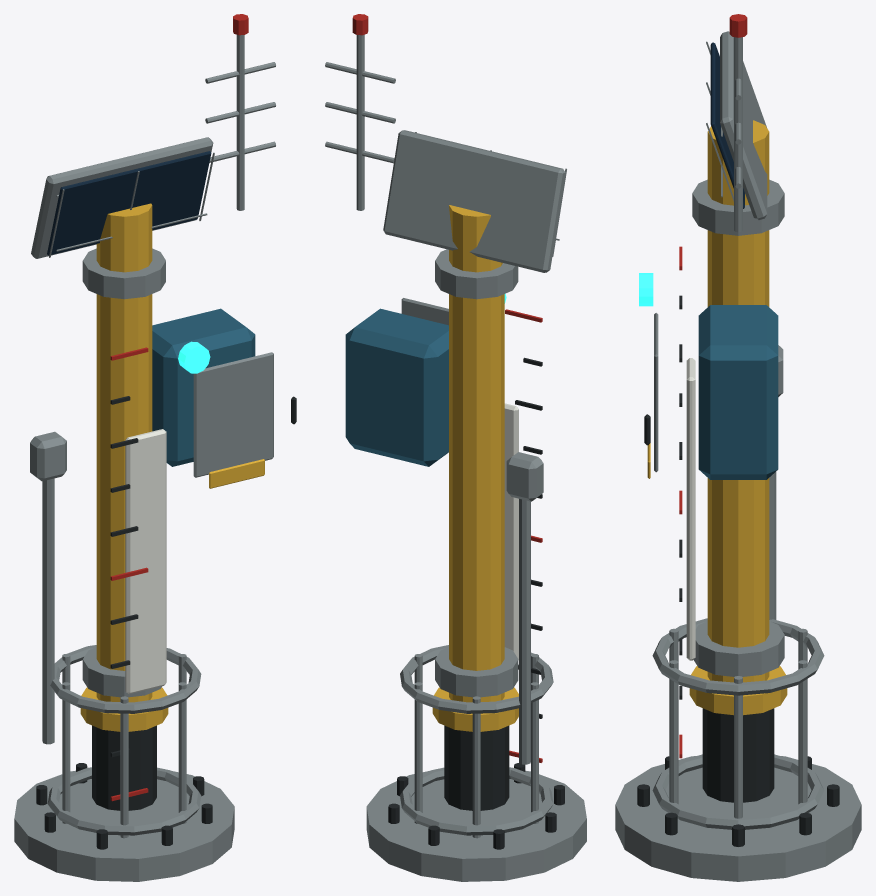
Rendered from port_mercy_tide_gauge.glb.
3 renders of one model, left to right at view 1: azimuth 30°, elevation 25°; view 2: azimuth 150°, elevation 25°; view 3: azimuth 270°, elevation 25°, orthographic. The views are drawn at different scales.
Visible parts, largest first — view 1: Port_Mercy_Tide_Gauge_28, Port_Mercy_Tide_Gauge_29, Port_Mercy_Tide_Gauge_52, Port_Mercy_Tide_Gauge_14, Port_Mercy_Tide_Gauge_32, Port_Mercy_Tide_Gauge_51, Port_Mercy_Tide_Gauge_30, Port_Mercy_Tide_Gauge_33, Port_Mercy_Tide_Gauge_16, Port_Mercy_Tide_Gauge_24, Port_Mercy_Tide_Gauge_23, Port_Mercy_Tide_Gauge_53 (+9 smaller); view 2: Port_Mercy_Tide_Gauge_28, Port_Mercy_Tide_Gauge_33, Port_Mercy_Tide_Gauge_51, Port_Mercy_Tide_Gauge_29, Port_Mercy_Tide_Gauge_30, Port_Mercy_Tide_Gauge_52, Port_Mercy_Tide_Gauge_16, Port_Mercy_Tide_Gauge_24, Port_Mercy_Tide_Gauge_27, Port_Mercy_Tide_Gauge_23, Port_Mercy_Tide_Gauge_53, Port_Mercy_Tide_Gauge_26 (+6 smaller); view 3: Port_Mercy_Tide_Gauge_29, Port_Mercy_Tide_Gauge_28, Port_Mercy_Tide_Gauge_51, Port_Mercy_Tide_Gauge_30, Port_Mercy_Tide_Gauge_33, Port_Mercy_Tide_Gauge_24, Port_Mercy_Tide_Gauge_23, Port_Mercy_Tide_Gauge_27, Port_Mercy_Tide_Gauge_52, Port_Mercy_Tide_Gauge_53, Port_Mercy_Tide_Gauge_31, Port_Mercy_Tide_Gauge_09 (+7 smaller).
Boxes of the visible parts, <box> form: Port_Mercy_Tide_Gauge_28: <box>96,203,152,702</box>; Port_Mercy_Tide_Gauge_29: <box>14,770,234,881</box>; Port_Mercy_Tide_Gauge_52: <box>125,429,166,694</box>; Port_Mercy_Tide_Gauge_14: <box>193,352,273,477</box>; Port_Mercy_Tide_Gauge_32: <box>47,151,211,255</box>; Port_Mercy_Tide_Gauge_51: <box>152,308,255,466</box>; Port_Mercy_Tide_Gauge_30: <box>92,725,156,810</box>; Port_Mercy_Tide_Gauge_33: <box>31,137,213,258</box>; Port_Mercy_Tide_Gauge_16: <box>42,478,54,744</box>; Port_Mercy_Tide_Gauge_24: <box>47,767,201,835</box>; Port_Mercy_Tide_Gauge_23: <box>50,645,201,713</box>; Port_Mercy_Tide_Gauge_53: <box>82,248,165,299</box>; Port_Mercy_Tide_Gauge_28: <box>449,205,504,702</box>; Port_Mercy_Tide_Gauge_33: <box>383,130,565,272</box>; Port_Mercy_Tide_Gauge_51: <box>345,308,448,466</box>; Port_Mercy_Tide_Gauge_29: <box>366,770,586,881</box>; Port_Mercy_Tide_Gauge_30: <box>444,725,509,810</box>; Port_Mercy_Tide_Gauge_52: <box>504,403,518,660</box>; Port_Mercy_Tide_Gauge_16: <box>519,499,530,764</box>; Port_Mercy_Tide_Gauge_24: <box>400,767,553,835</box>; Port_Mercy_Tide_Gauge_27: <box>435,647,518,697</box>; Port_Mercy_Tide_Gauge_23: <box>400,645,553,713</box>; Port_Mercy_Tide_Gauge_53: <box>435,249,518,299</box>; Port_Mercy_Tide_Gauge_26: <box>506,452,543,501</box>; Port_Mercy_Tide_Gauge_29: <box>615,756,861,881</box>; Port_Mercy_Tide_Gauge_28: <box>707,120,769,682</box>; Port_Mercy_Tide_Gauge_51: <box>698,305,778,479</box>; Port_Mercy_Tide_Gauge_30: <box>702,708,774,802</box>; Port_Mercy_Tide_Gauge_33: <box>720,31,767,219</box>; Port_Mercy_Tide_Gauge_24: <box>652,754,824,829</box>; Port_Mercy_Tide_Gauge_23: <box>652,618,824,695</box>; Port_Mercy_Tide_Gauge_27: <box>693,621,784,676</box>; Port_Mercy_Tide_Gauge_52: <box>686,358,695,660</box>; Port_Mercy_Tide_Gauge_53: <box>692,179,784,235</box>; Port_Mercy_Tide_Gauge_31: <box>689,666,787,715</box>; Port_Mercy_Tide_Gauge_09: <box>734,37,742,232</box>.
Size of the model in its own units: 1.23 by 3.77 by 0.96.
